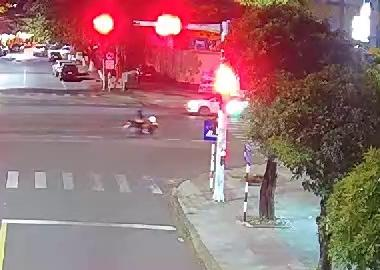red_light: (213, 63, 239, 117), (154, 15, 180, 37), (94, 15, 116, 35)
stop_line: (2, 215, 179, 232)
